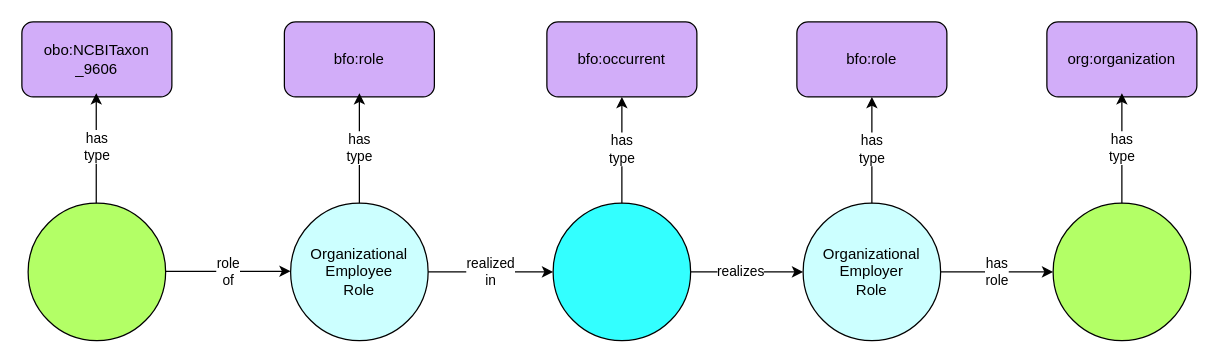
This 1219x363 diagram has some shape labels left out. Each missing label, with the centre of its shape:
"Organization" belongs at point (1121, 271).
"Organizational Position" belongs at point (621, 271).
"Person" belongs at point (96, 271).
